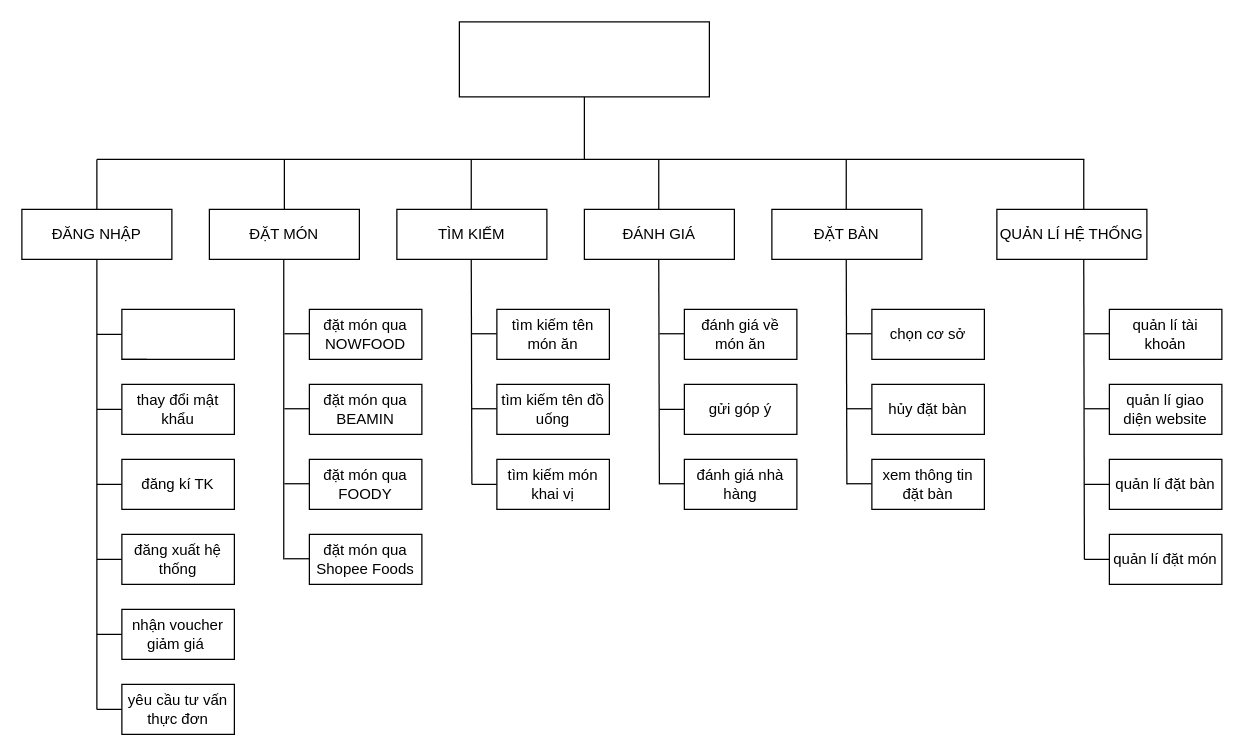
This 1244x756 diagram has some shape labels left out. The shapes that lost their labels are listed below. From the top down, each one's centre as x and y in pixels, then its label:
At (x=583, y=59): "WEBISTE ĐẶT BÀN NHÀ HÀNG VMMS".
At (x=177, y=333): "cập nhật thông tin".
